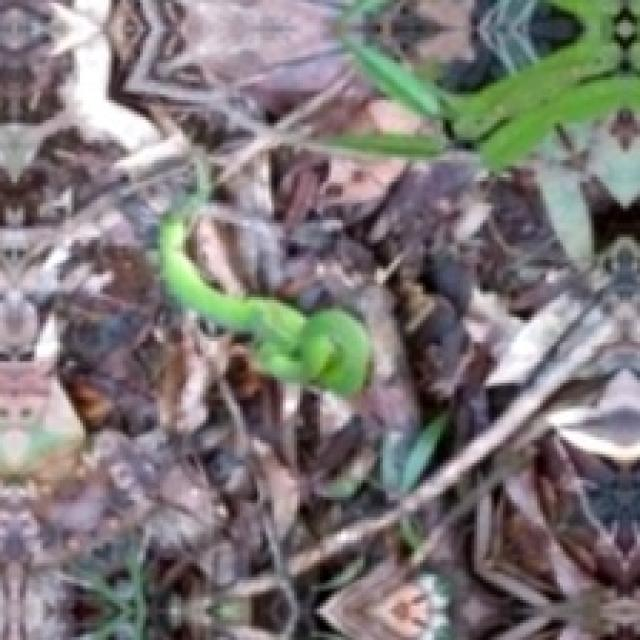north ph temple pitviper: (160, 211, 369, 394)
